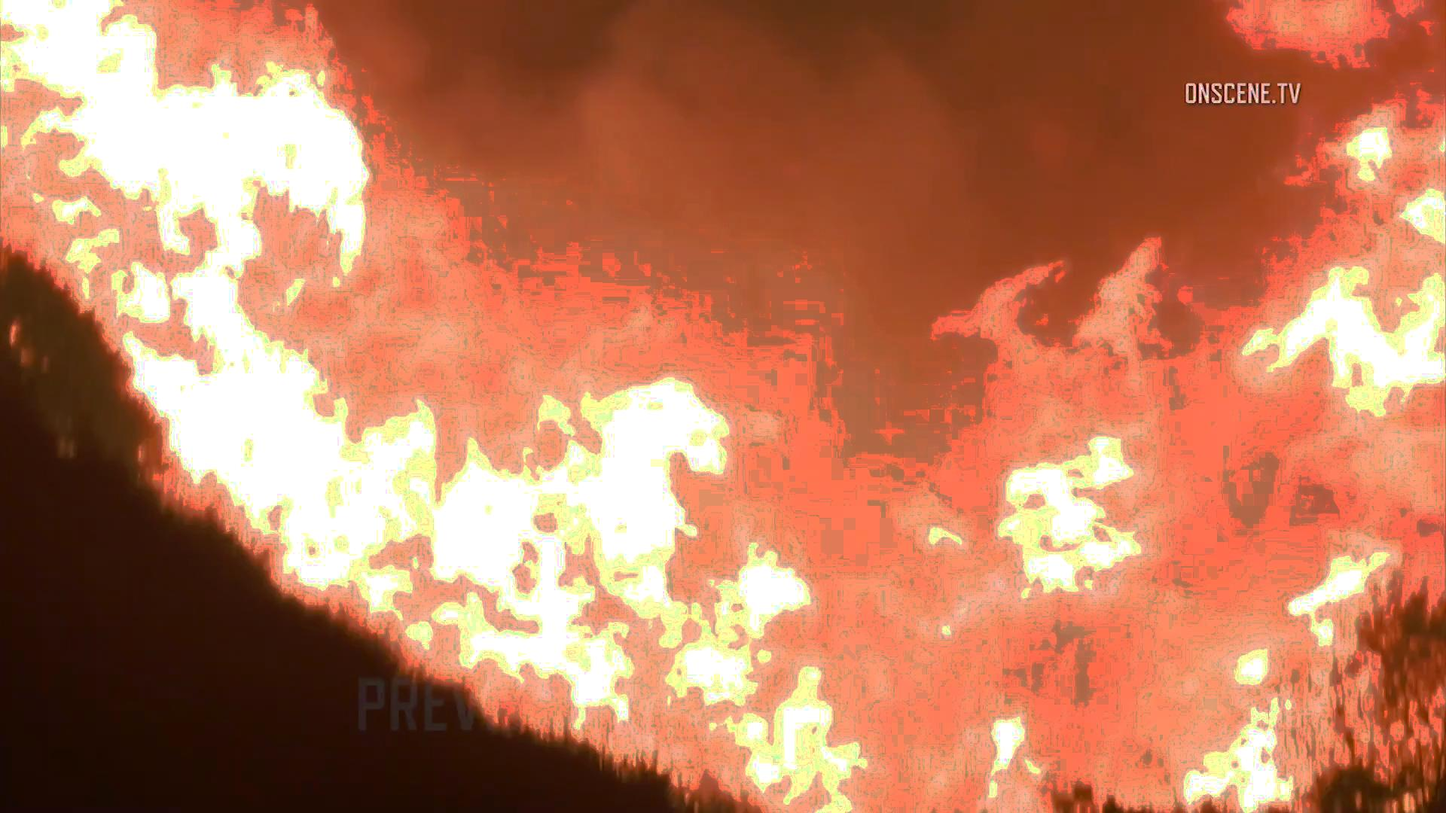fire: (158, 243, 744, 609), (0, 25, 379, 305)
